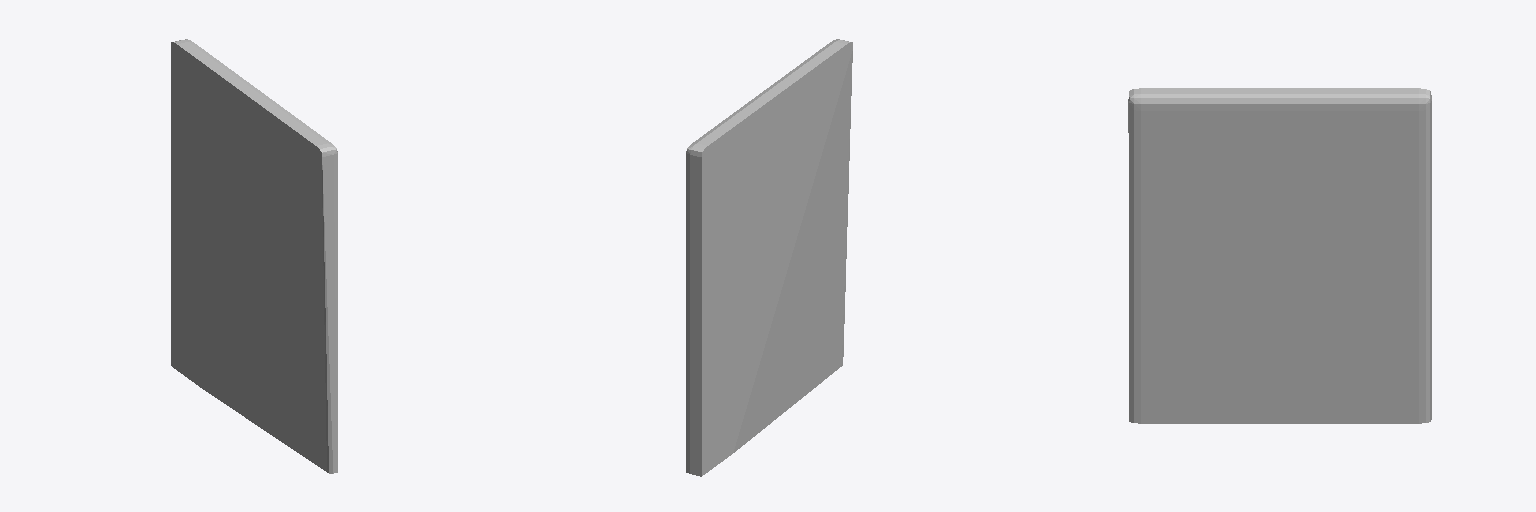
Rendered from Cart_pocket_collision_0.obj.
The picture shows the model from 3 angles: view 1: azimuth 30°, elevation 25°; view 2: azimuth 150°, elevation 25°; view 3: azimuth 270°, elevation 25°; orthographic projection.
Size of the model in its own units: 0.023 by 0.381 by 0.321.